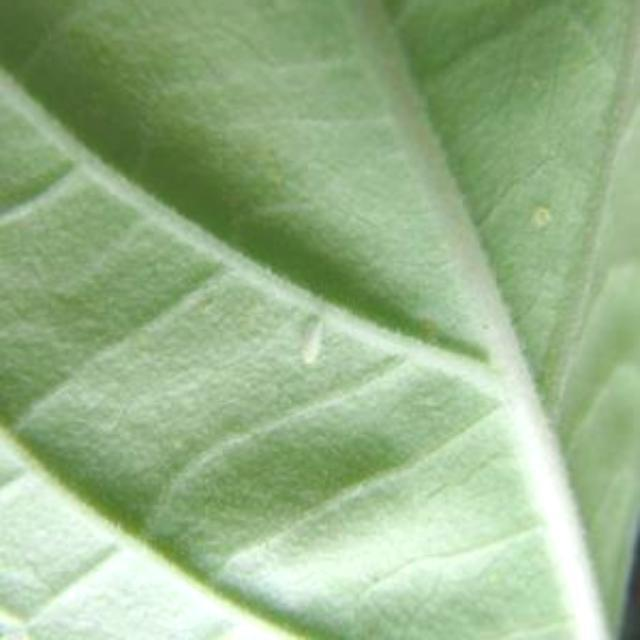Silverleaf whitefly: (272, 304, 348, 386)
